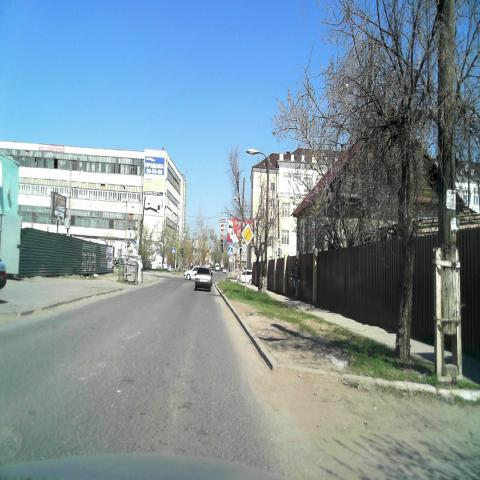2_2: (241, 224, 254, 246)
